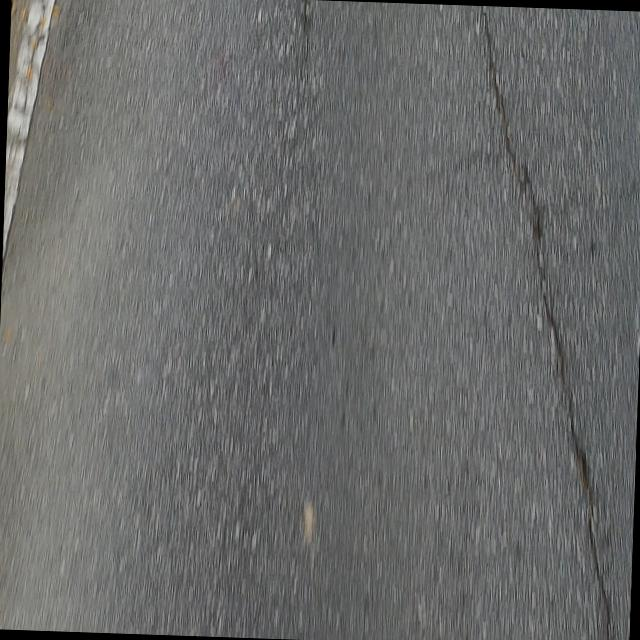Retak-Memanjang: (479, 8, 617, 635)
